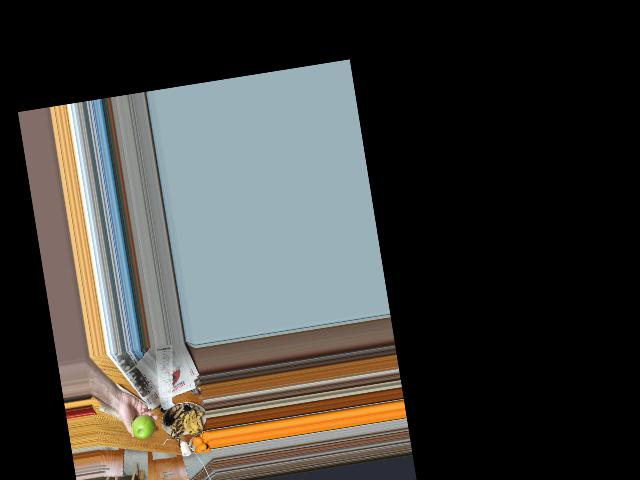apple: (130, 411, 156, 440)
